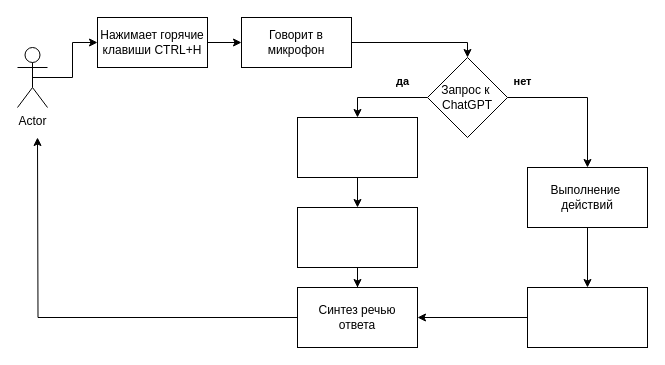
The diagram is 665 pixels wide and 365 high, and some of its shapes have lost their labels. The centre of each missing label's shape, as x and y in pixels:
"Выполнения действия" belongs at (587,317).
"Отправка запроса ChatGPT" belongs at (357,147).
"Получение ответа от ChatGPT" belongs at (357,237).
